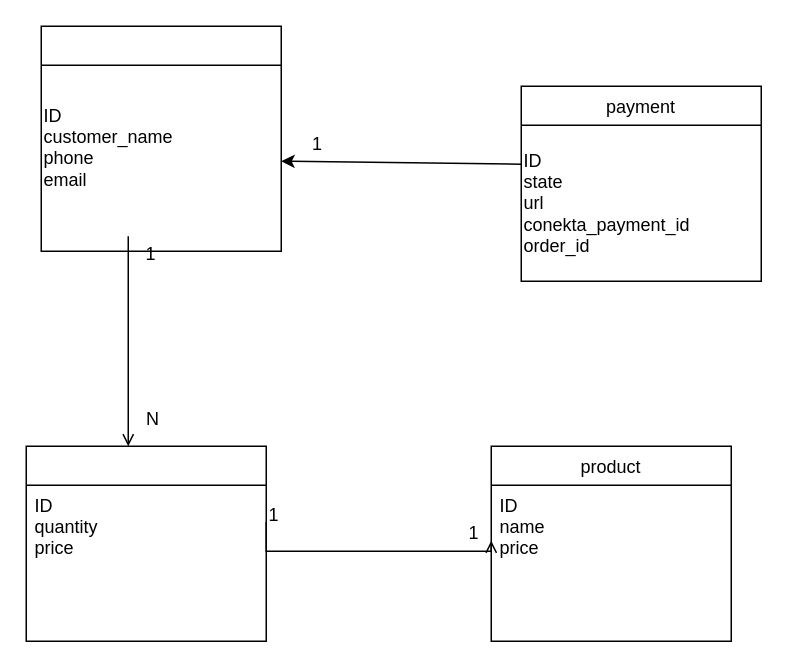
This 788x668 diagram has some shape labels left out. Here are the shapes that lost their labels. From the top down, the box of each, then its label:
(40, 25, 281, 251): Order
(25, 445, 266, 641): line item
